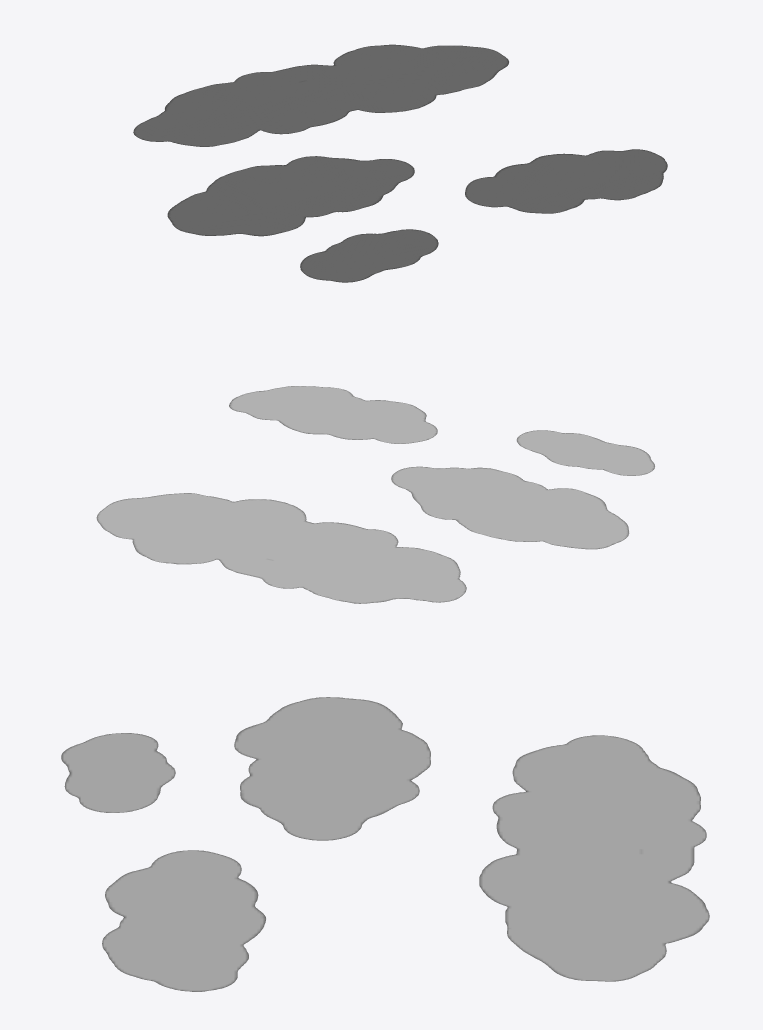
3 views of the same model, one above another, from view 1: azimuth 30°, elevation 25°; view 2: azimuth 150°, elevation 25°; view 3: azimuth 270°, elevation 25° (orthographic). The views are drawn at different scales.
Visible parts, largest first — view 1: Joint_0_Object_0; view 2: Joint_0_Object_0; view 3: Joint_0_Object_0.
Boxes of the visible parts, x1,y1,x2,y2 form: Joint_0_Object_0: (133, 44, 667, 282); Joint_0_Object_0: (96, 386, 654, 603); Joint_0_Object_0: (61, 697, 709, 991).
Bounding box in the file's own units: 10000 × 376 × 10000.
